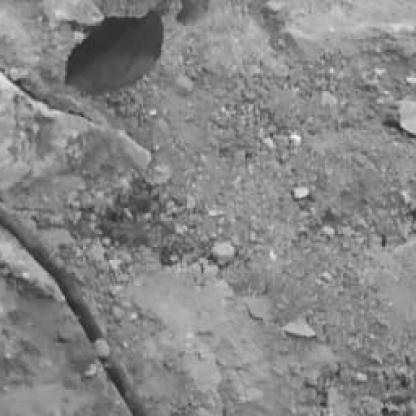cementitious_debris: (0, 2, 414, 413), (2, 228, 129, 414)
